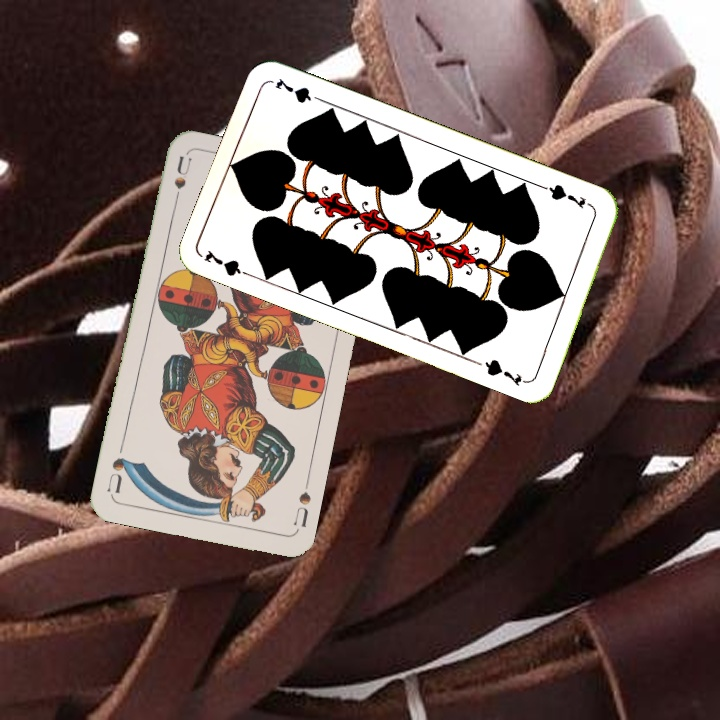G7: (200, 245, 258, 281), (539, 180, 596, 212)
SU: (169, 153, 193, 213), (290, 487, 314, 530)
